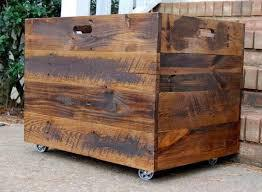wood: (21, 11, 247, 173)
